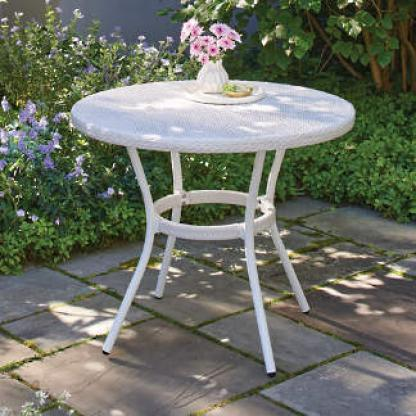table: (69, 72, 358, 382)
